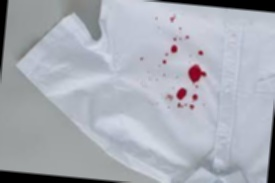blood: (188, 64, 204, 83), (176, 88, 187, 110), (188, 94, 198, 111), (161, 52, 169, 66), (170, 44, 180, 55), (197, 49, 204, 57)
